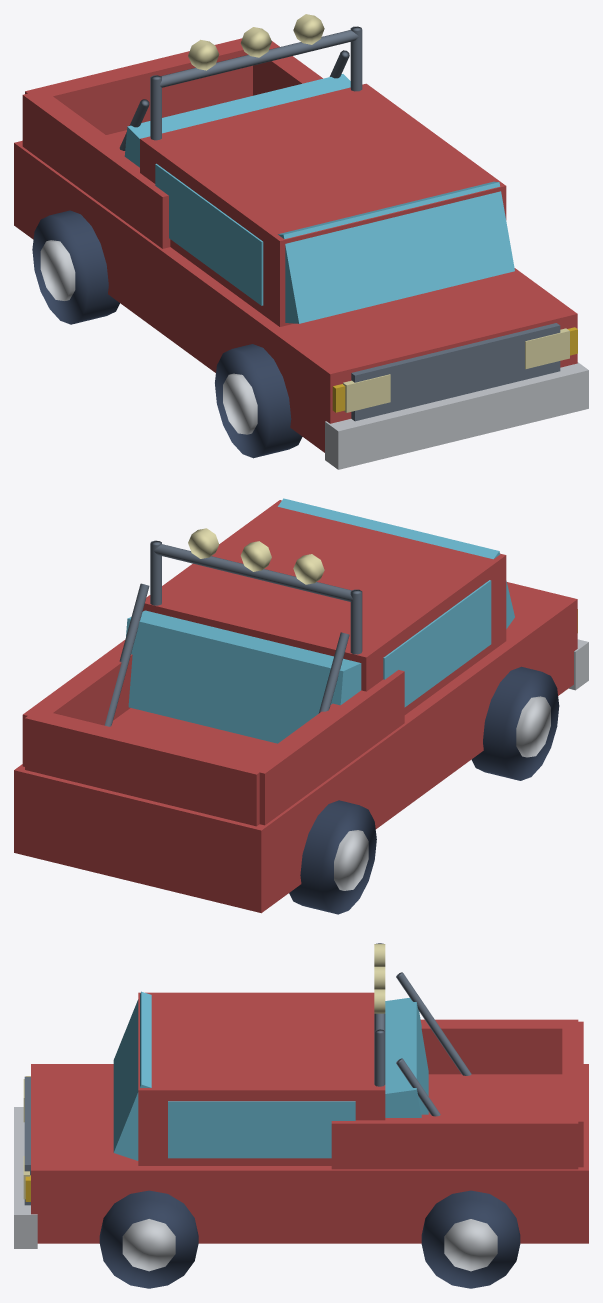
Rendered from pickup-truck.glb.
The picture shows the model from 3 angles, top to bottom: view 1: azimuth 30°, elevation 25°; view 2: azimuth 150°, elevation 25°; view 3: azimuth 270°, elevation 25°; orthographic projection. The views are drawn at different scales.
Visible parts, largest first — view 1: Root; view 2: Root; view 3: Root.
Boxes of the visible parts, <box> form: Root: <box>14,14,588,469</box>; Root: <box>14,498,588,914</box>; Root: <box>14,943,588,1288</box>.
Bounding box in the file's own units: 2.83 × 2.67 × 5.36.
